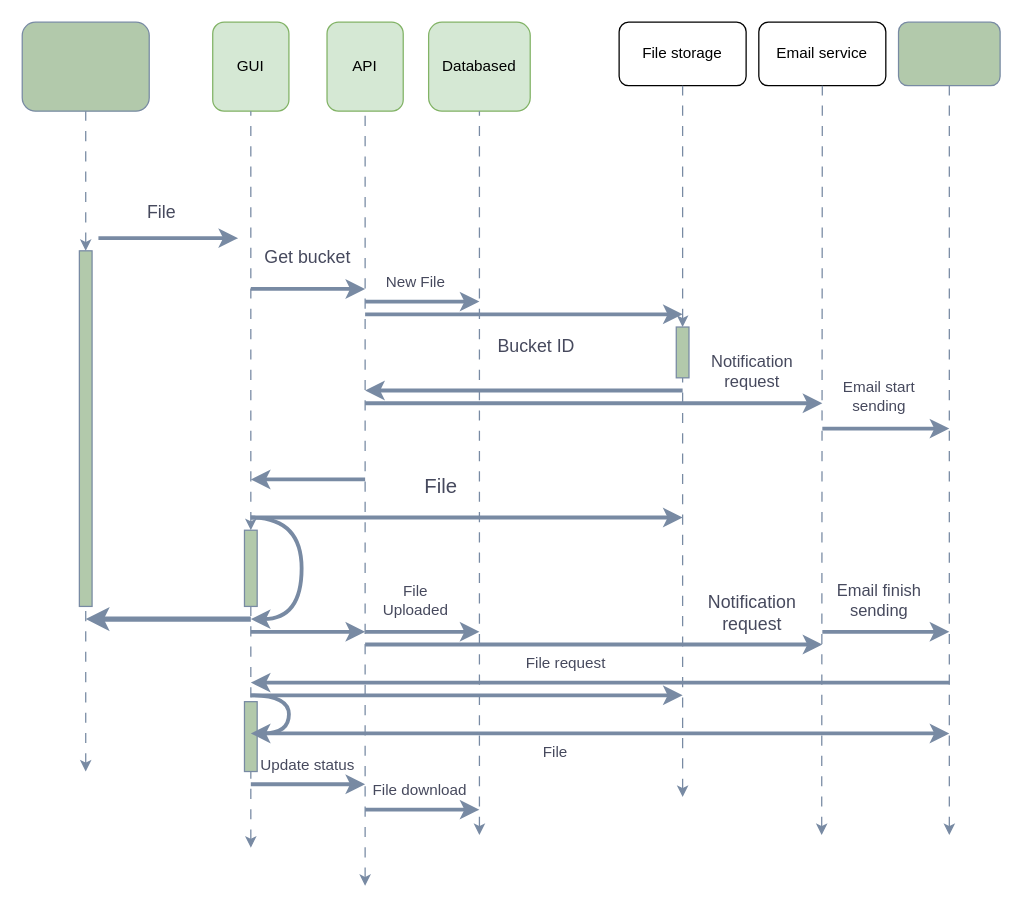
The diagram is 1022 pixels wide and 918 high, and some of its shapes have lost their labels. The box of each missing label's shape, as (x1, y1, x2, y2) in pixels:
Receipient: (897, 21, 1000, 86)
Sender: (21, 21, 149, 111)
